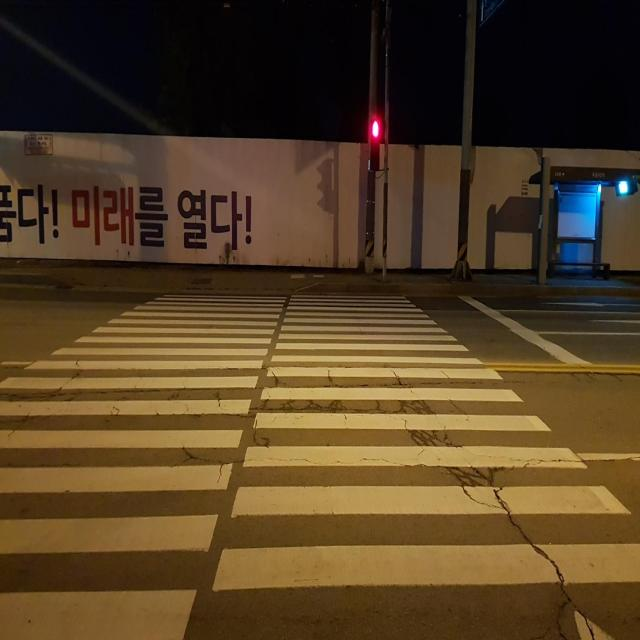빨간불: (365, 121, 382, 168)
횡단보도: (0, 291, 640, 640)
